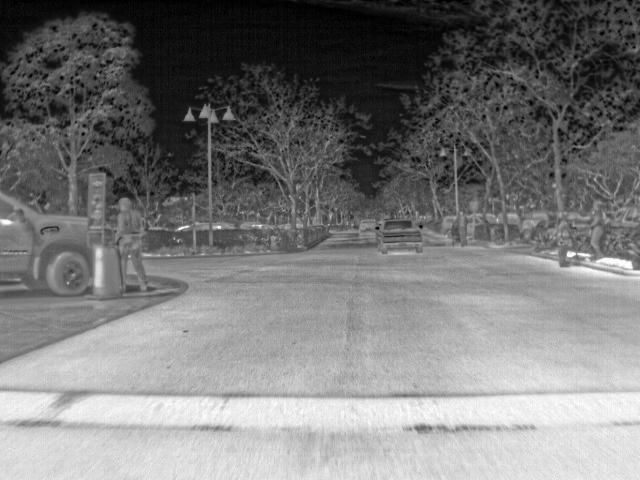car: (1, 188, 94, 298), (378, 216, 426, 255), (240, 220, 273, 232), (213, 218, 236, 232), (171, 222, 193, 234), (519, 220, 541, 232), (529, 208, 549, 221), (439, 214, 455, 230), (194, 220, 212, 234), (357, 218, 375, 232), (483, 212, 502, 223), (572, 208, 589, 220), (509, 211, 523, 223)
person: (119, 194, 149, 292), (590, 198, 608, 262), (558, 210, 572, 267), (455, 210, 469, 246)
